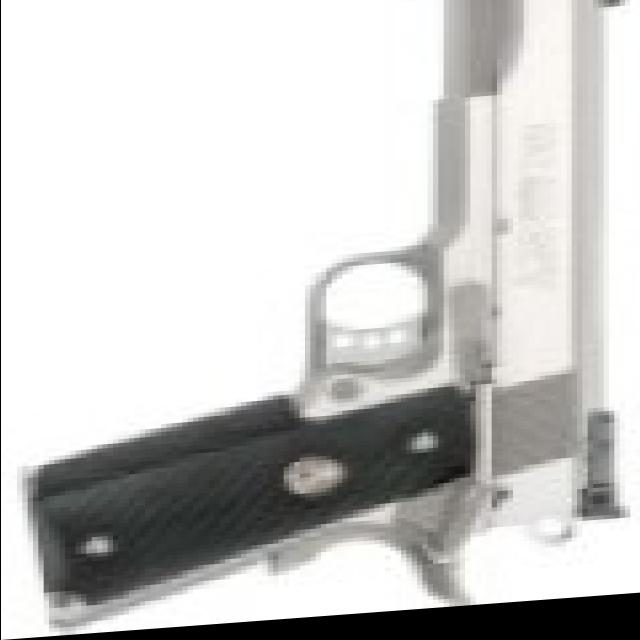handgun: (37, 0, 624, 622)
